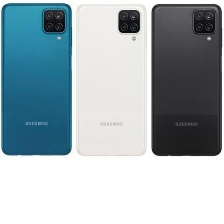phone: (73, 0, 151, 161), (148, 1, 224, 157), (0, 0, 72, 159)
